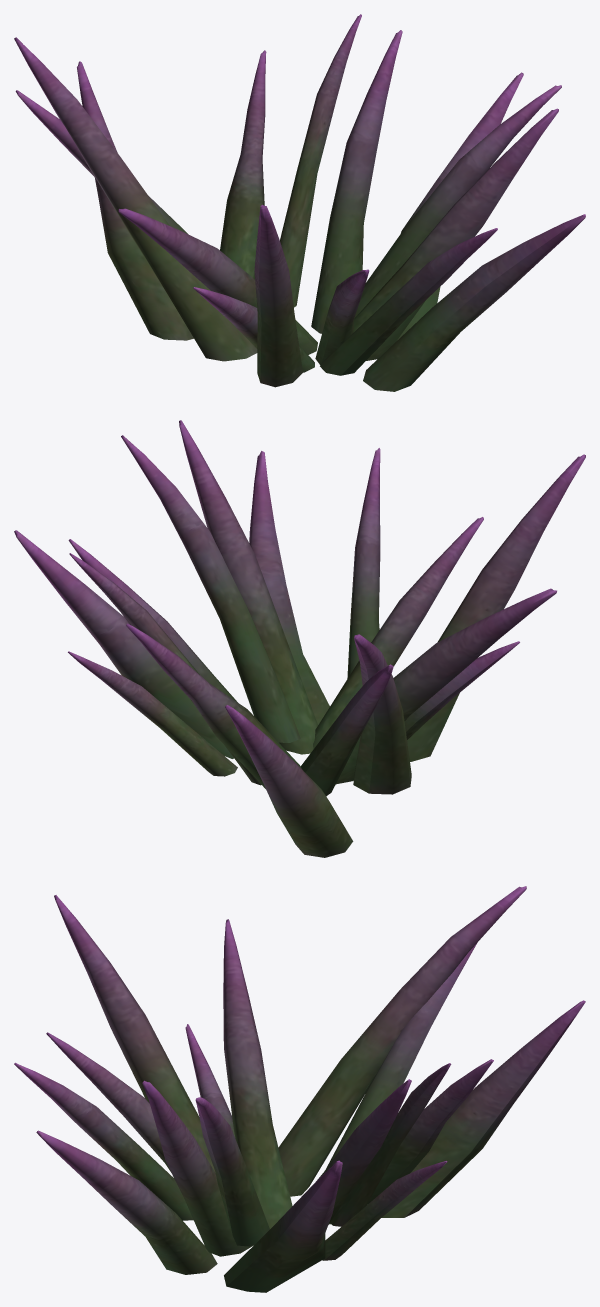
The picture shows the model from 3 angles, top to bottom: view 1: azimuth 30°, elevation 25°; view 2: azimuth 150°, elevation 25°; view 3: azimuth 270°, elevation 25°; orthographic projection. The views are drawn at different scales.
Visible parts, largest first — view 1: SM_WildJadeVine_VineEruption_02_LOD0; view 2: SM_WildJadeVine_VineEruption_02_LOD0; view 3: SM_WildJadeVine_VineEruption_02_LOD0.
Part boxes in pixels (x1,y1,x2,y2): SM_WildJadeVine_VineEruption_02_LOD0: (14, 14, 585, 391); SM_WildJadeVine_VineEruption_02_LOD0: (14, 420, 585, 857); SM_WildJadeVine_VineEruption_02_LOD0: (14, 886, 585, 1292).
Bounding box in the file's own units: 1.57 × 0.8871 × 1.67.
1 material, 1 textured.
